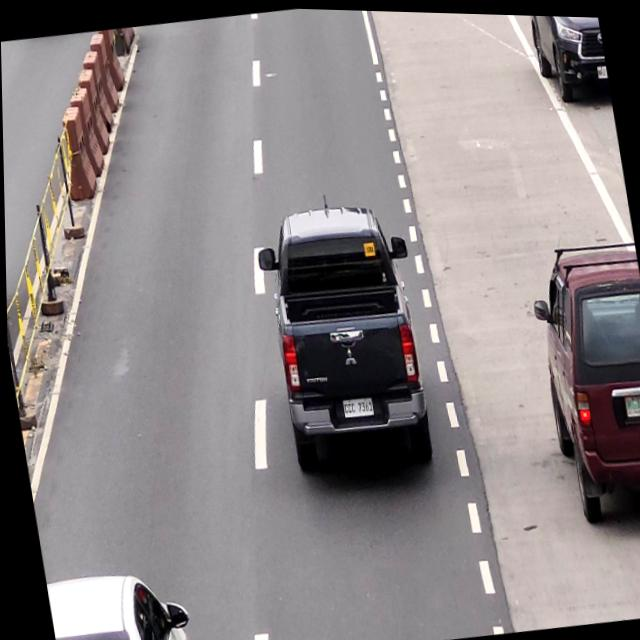Car: (252, 189, 437, 474), (527, 234, 640, 518), (43, 562, 185, 640)
License-Plate: (337, 393, 374, 422), (619, 384, 640, 414)
